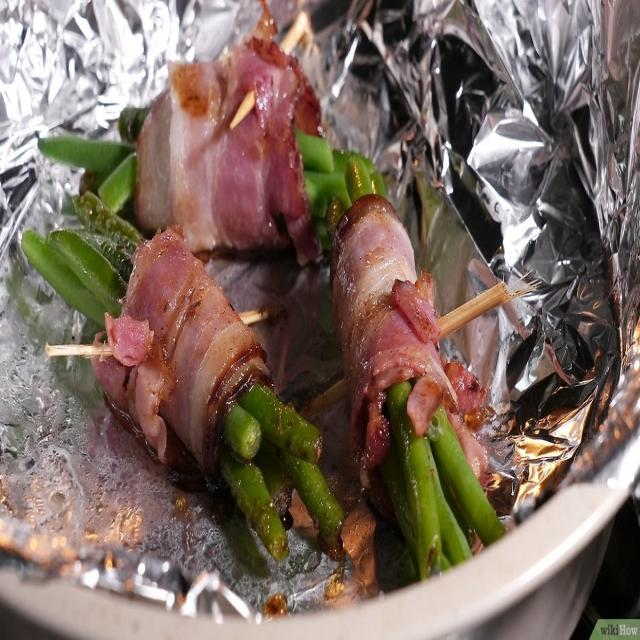bacon: (146, 65, 308, 237), (330, 233, 466, 424), (110, 248, 239, 447)
